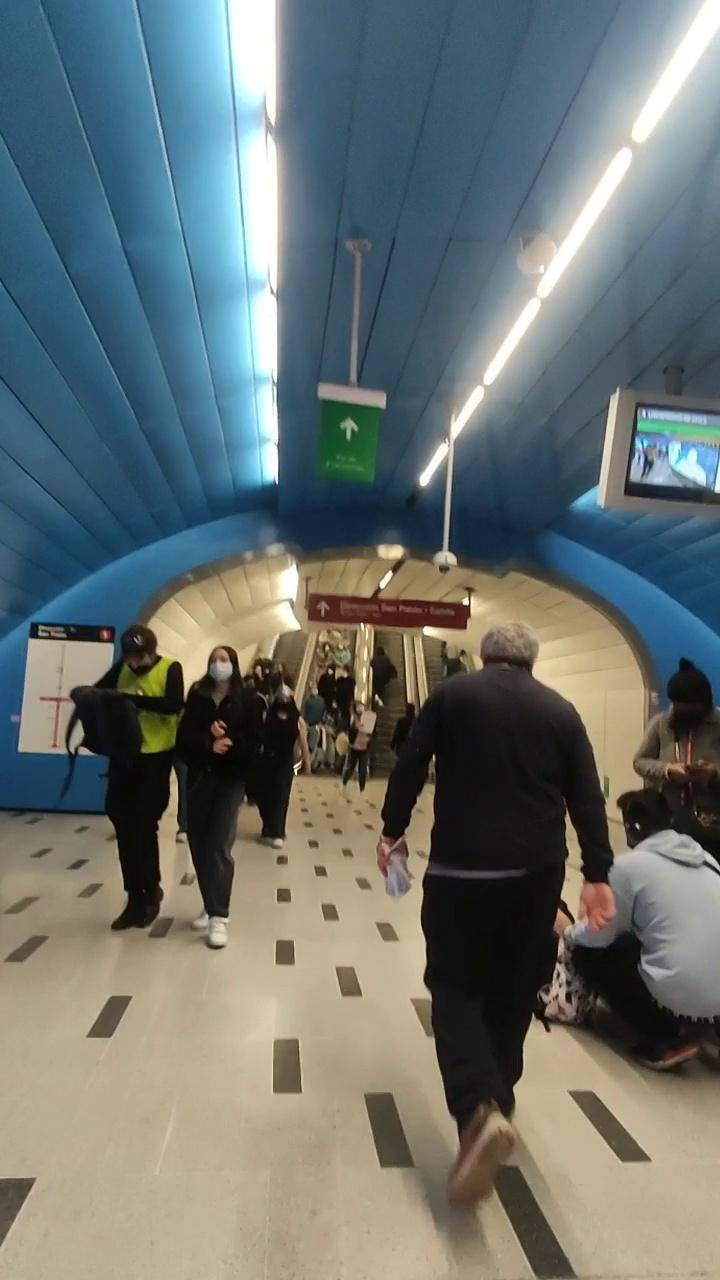up arrow: (314, 598, 332, 618)
